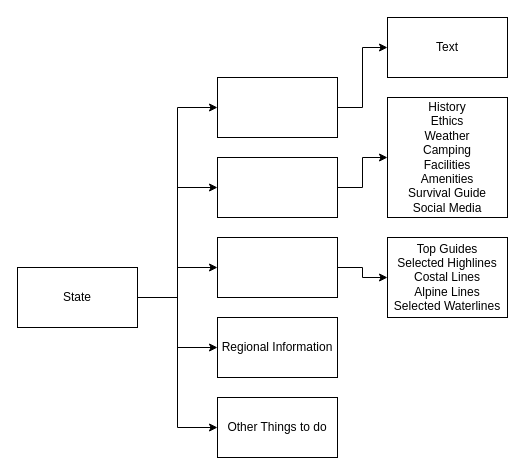
Image size: 525x475. Some labels were removed from this diagram. The centre of each missing label's shape, as x and y in pixels:
Brief Description: (277,107)
General Information: (277,187)
Selected Guides and Areas: (277,267)
